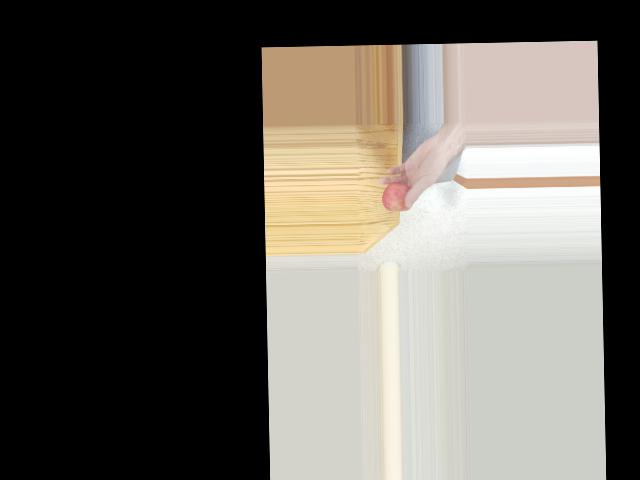apple: (382, 181, 415, 212)
